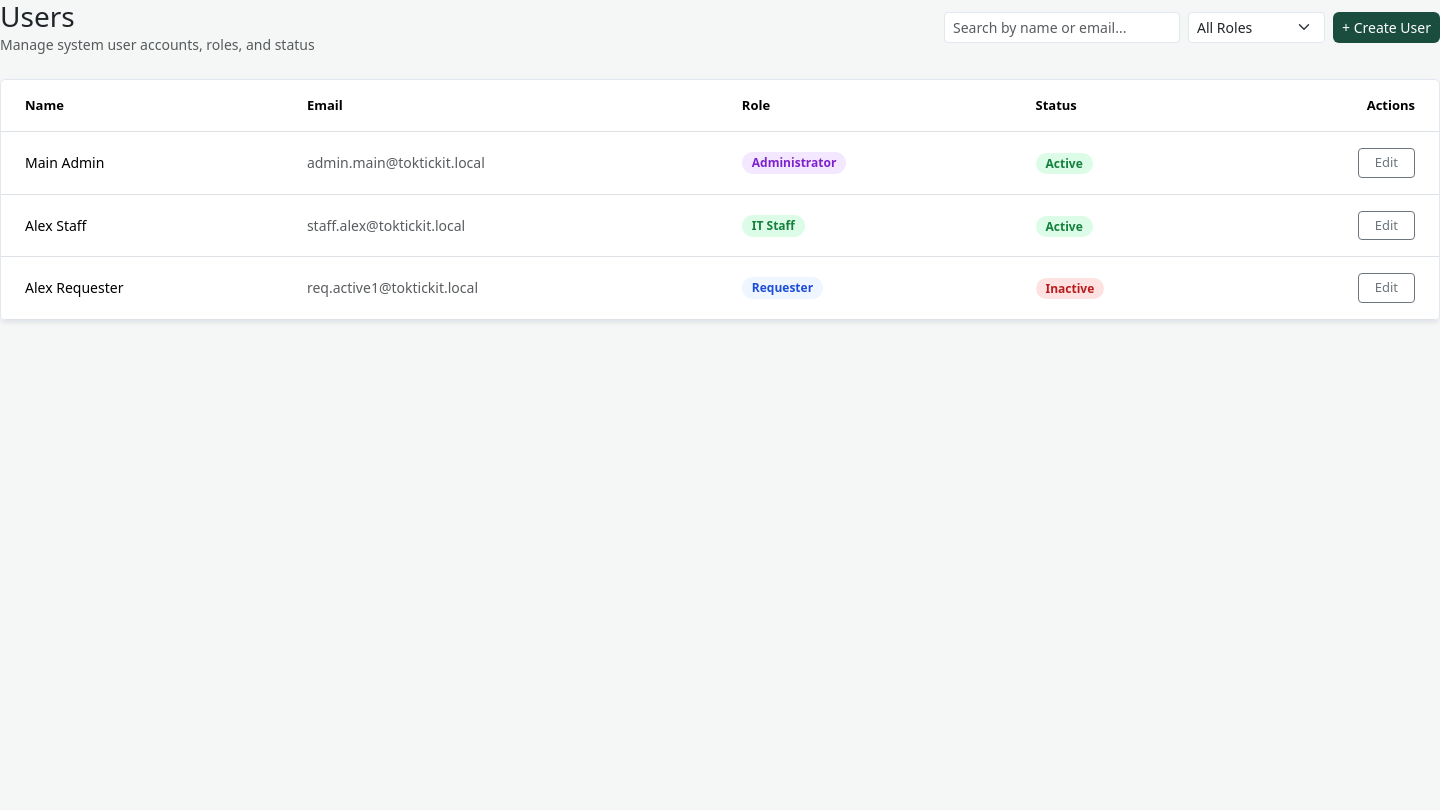
Test: UI-06, UI-07, UI-08: Administrator User Management Component Tests › UI-08: disables active toggle and shows warning when editing self or last active administrator
Click the button with test id "edit-user-admin-1" at (1386, 163), box [1358,148,1415,178]
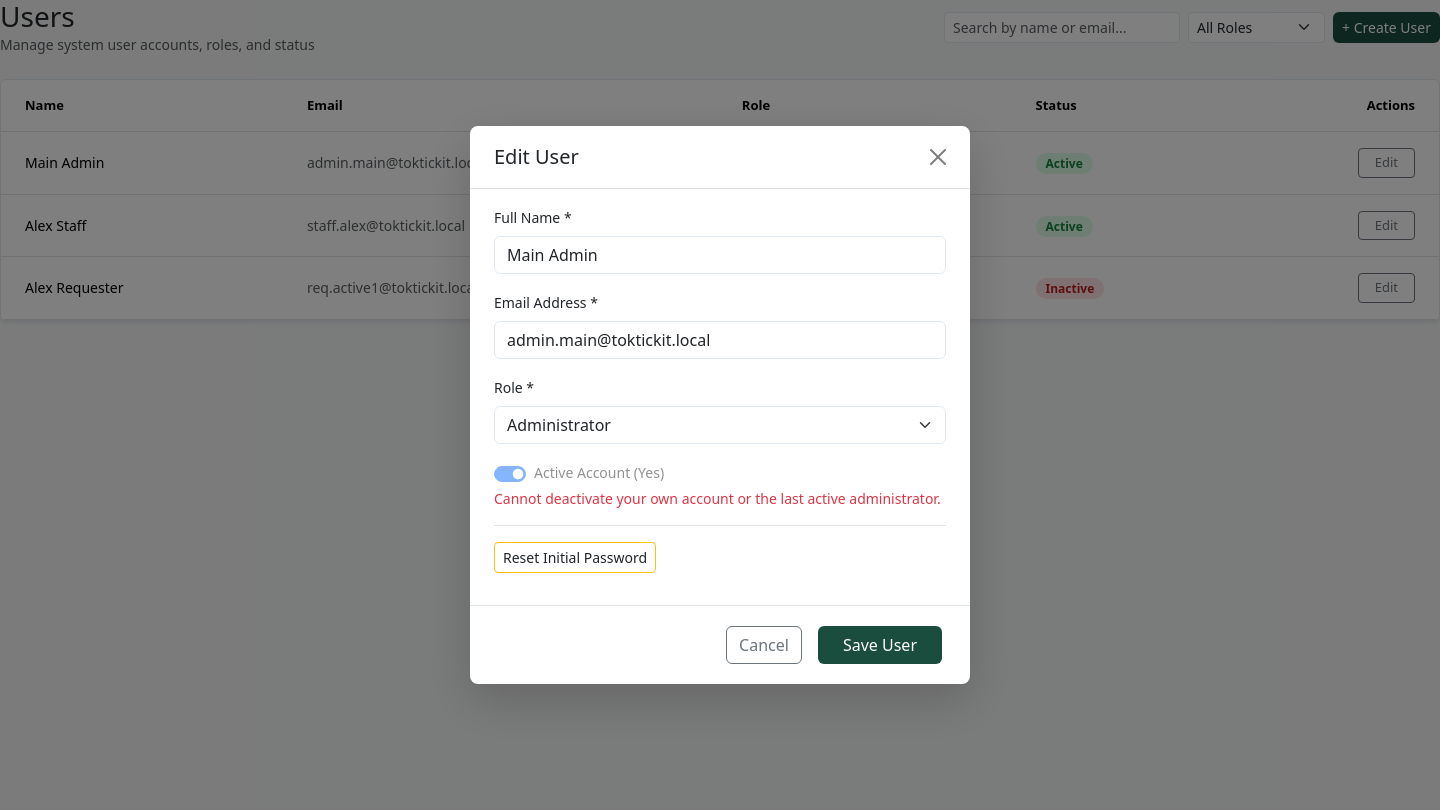
Expected: the heading with test id "drawer-title" reads "Edit User", [494,143,579,170]
Expected: the switch with test id "toggle-active" is disabled, [494,466,526,482]
Expected: the text with test id "deactivate-warning" is shown, [494,488,946,509]
